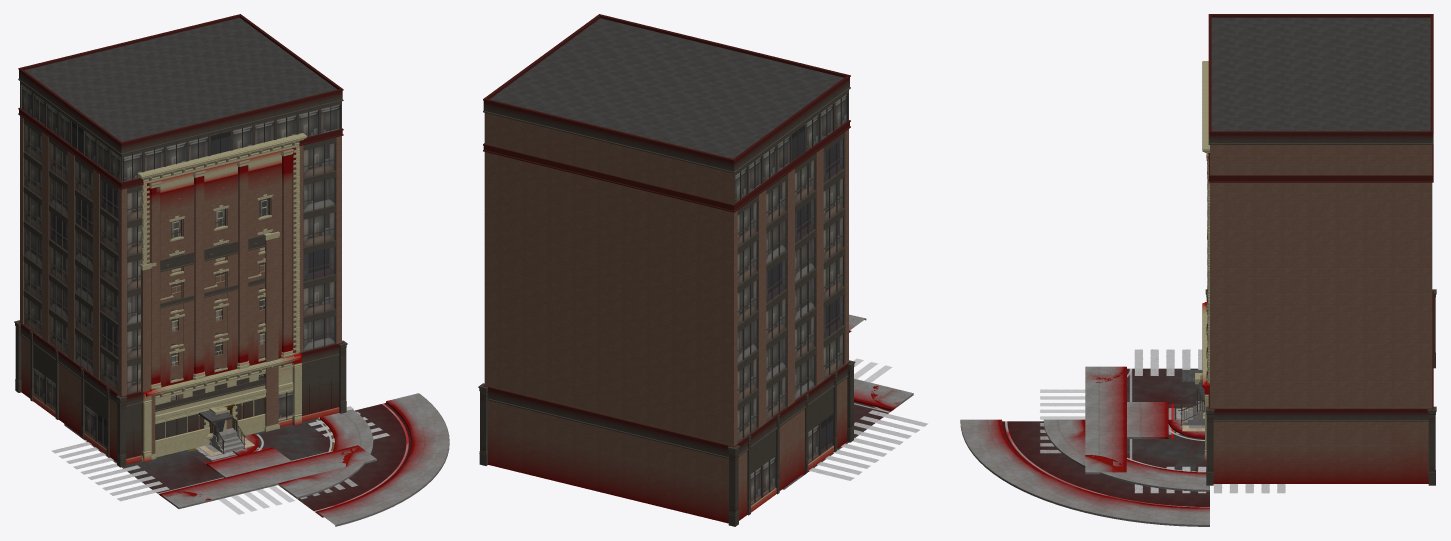
File: downtown.glb
3 renders of one model, left to right at view 1: azimuth 30°, elevation 25°; view 2: azimuth 150°, elevation 25°; view 3: azimuth 270°, elevation 25°, orthographic. The views are drawn at different scales.
Parts seen in each view (by area): view 1: Building_Large_2, Building_Medium_2.001, Building_Small_1, Street_Curve_4LaneShort, Street_TIntersection, Street_4WayIntersection, Street_Curve_2Lane, Street_Curve_4Lane_Short_Curb, Street_2Lane; view 2: Building_Large_2, Street_TIntersection, Street_4WayIntersection; view 3: Building_Large_2, Street_Curve_4LaneShort, Street_TIntersection, Street_4WayIntersection, Street_Curve_4Lane_Short_Curb, Street_Curve_2Lane, Street_Curve_2Lane_Curb, Building_Medium_2.001, Street_2Lane.
Boxes of the visible parts, box(x1,y1,x2,y2) form: Building_Large_2: box(14, 14, 347, 467); Building_Medium_2.001: box(137, 133, 306, 462); Building_Small_1: box(140, 231, 279, 461); Street_Curve_4LaneShort: box(232, 393, 449, 526); Street_TIntersection: box(52, 406, 389, 508); Street_4WayIntersection: box(51, 406, 389, 514); Street_Curve_2Lane: box(236, 409, 373, 498); Street_Curve_4Lane_Short_Curb: box(330, 393, 449, 516); Street_2Lane: box(187, 447, 291, 477); Building_Large_2: box(478, 14, 855, 526); Street_TIntersection: box(793, 378, 927, 481); Street_4WayIntersection: box(782, 356, 926, 489); Building_Large_2: box(1205, 14, 1436, 485); Street_Curve_4LaneShort: box(960, 419, 1209, 515); Street_TIntersection: box(1085, 349, 1284, 492); Street_4WayIntersection: box(1040, 349, 1285, 493); Street_Curve_4Lane_Short_Curb: box(960, 422, 1209, 526); Street_Curve_2Lane: box(1043, 419, 1209, 491); Street_Curve_2Lane_Curb: box(1043, 420, 1209, 491); Building_Medium_2.001: box(1202, 61, 1209, 461); Street_2Lane: box(1127, 402, 1173, 438).
Size of the model in its own units: 30.33 by 28.2 by 34.32.
15 materials, 13 textured.
